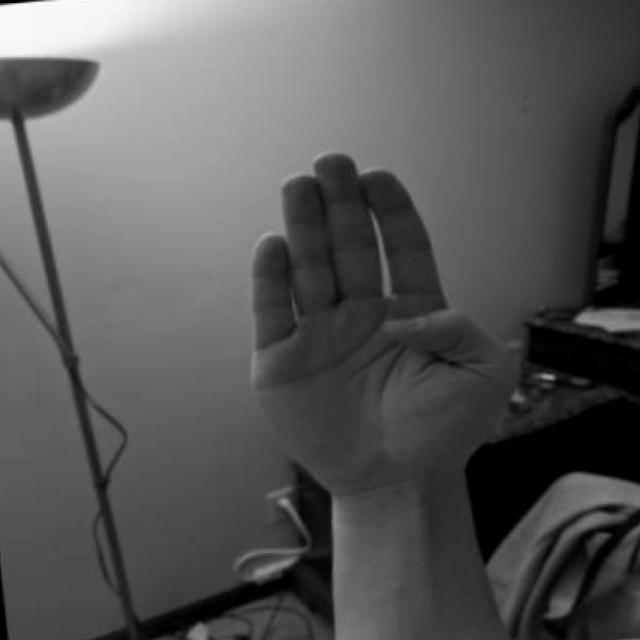B: (232, 136, 543, 506)
